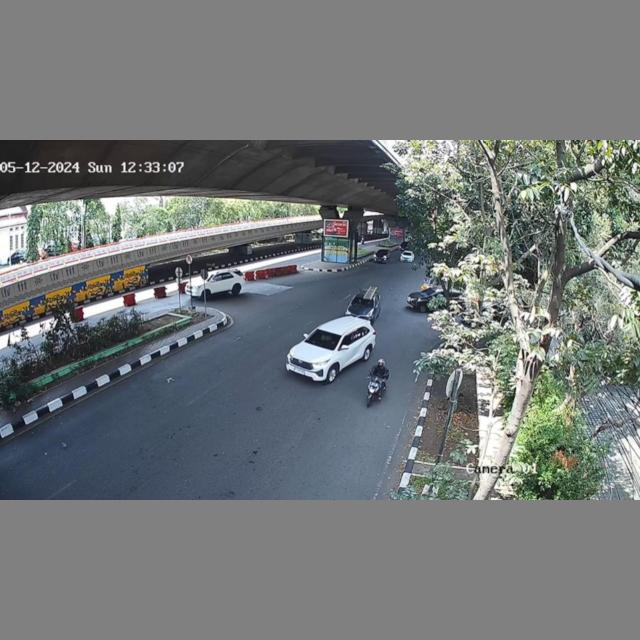windshield: (304, 328, 342, 349)
